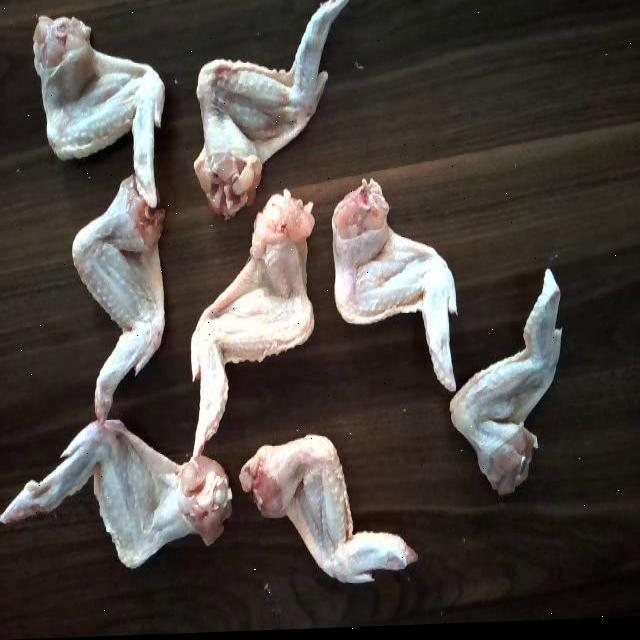wing: (0, 420, 234, 586), (176, 3, 347, 213), (241, 427, 424, 600), (192, 201, 318, 452), (326, 180, 467, 392), (31, 7, 168, 214), (452, 279, 578, 503), (73, 178, 175, 424)
